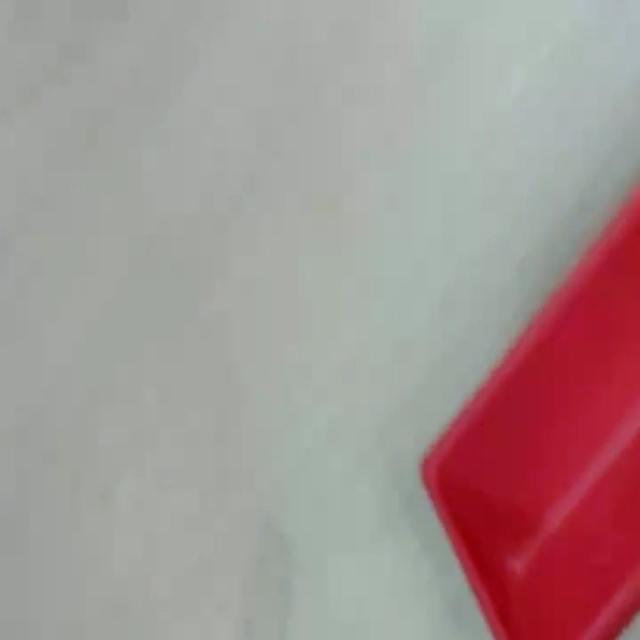red_block: (418, 182, 638, 638)
